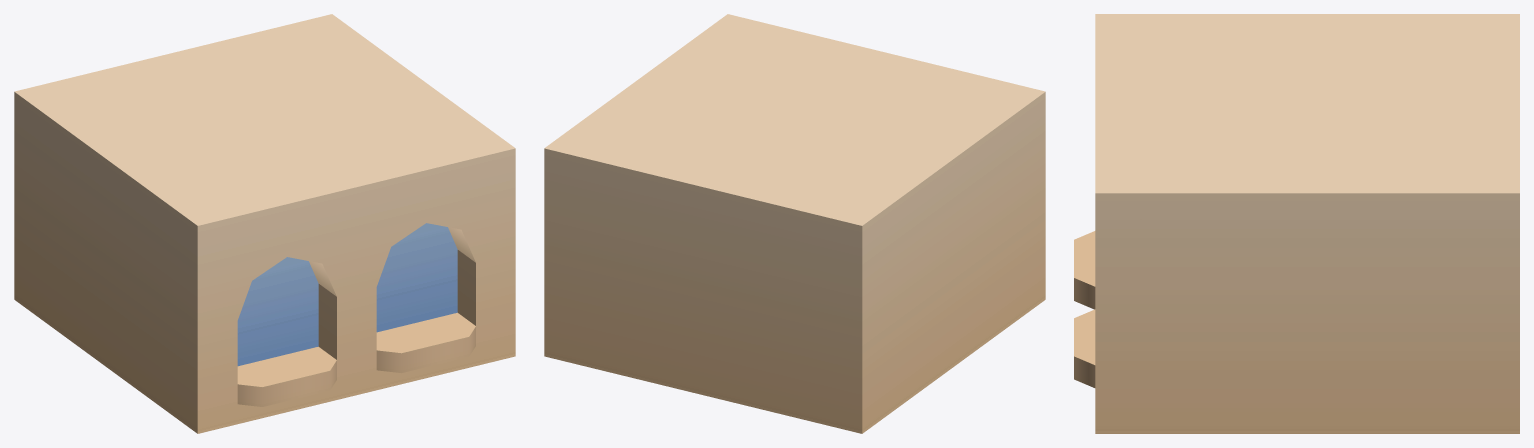
File: building-windows-sills-round.glb
3 renders of one model, left to right at view 1: azimuth 30°, elevation 25°; view 2: azimuth 150°, elevation 25°; view 3: azimuth 270°, elevation 25°, orthographic. The views are drawn at different scales.
Visible parts, largest first — view 1: building-windows-sills-round; view 2: building-windows-sills-round; view 3: building-windows-sills-round.
Part boxes in pixels (bbox=[...]): building-windows-sills-round: bbox=[14, 14, 515, 433]; building-windows-sills-round: bbox=[544, 14, 1045, 433]; building-windows-sills-round: bbox=[1074, 14, 1519, 433].
Size of the model in its own units: 1 by 0.6251 by 1.05.
Materials: 1 (1 with a texture image).
